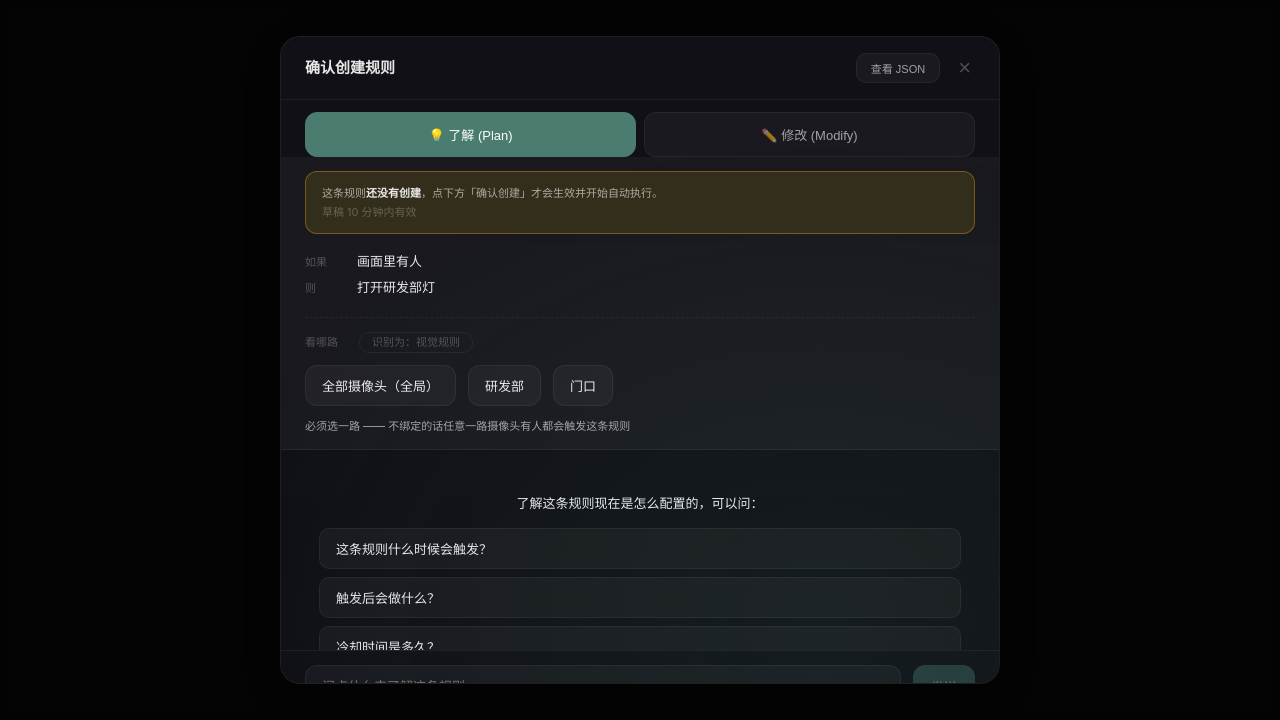
Scenario: ReviseChatModal pending 模式 › 非 404 失败（如设备已不存在）留在弹窗内展示，用户还能改
Click the button with class "camera-chip" showing "研发部": (504, 385) [468,365,541,406]
(page scrolled)
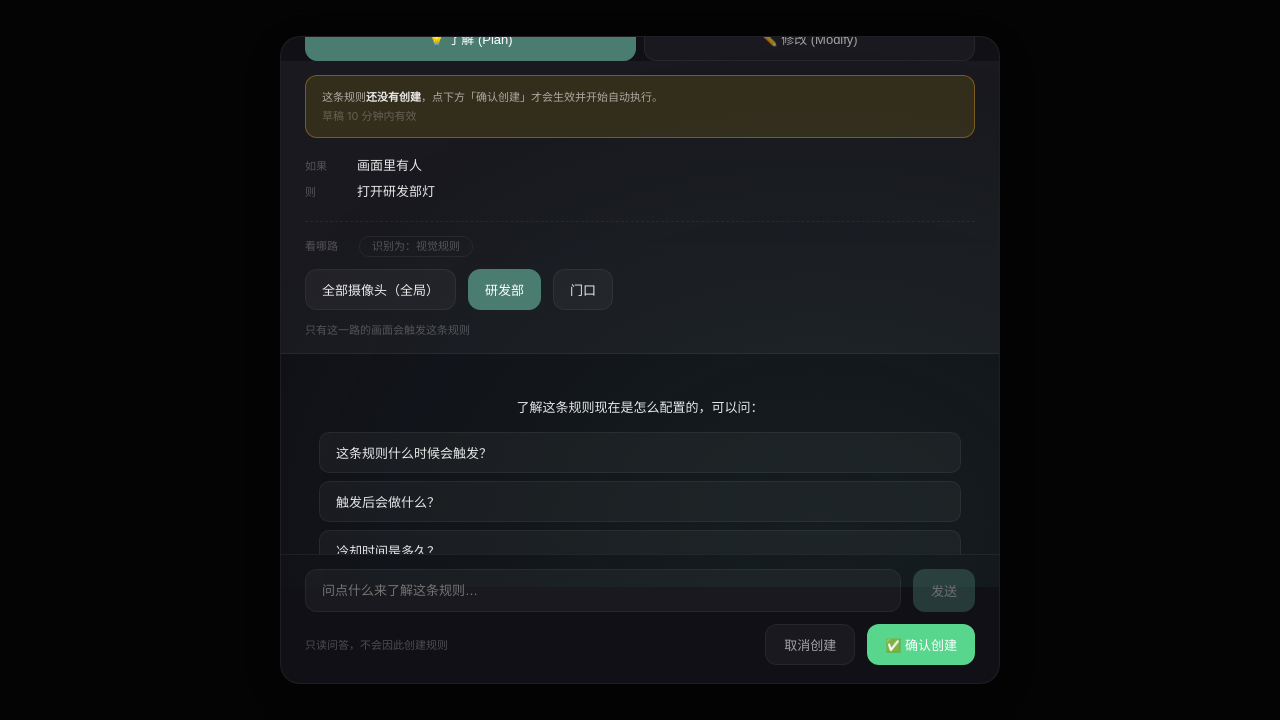
Click the button "✅ 确认创建": (921, 645) [867,624,975,666]
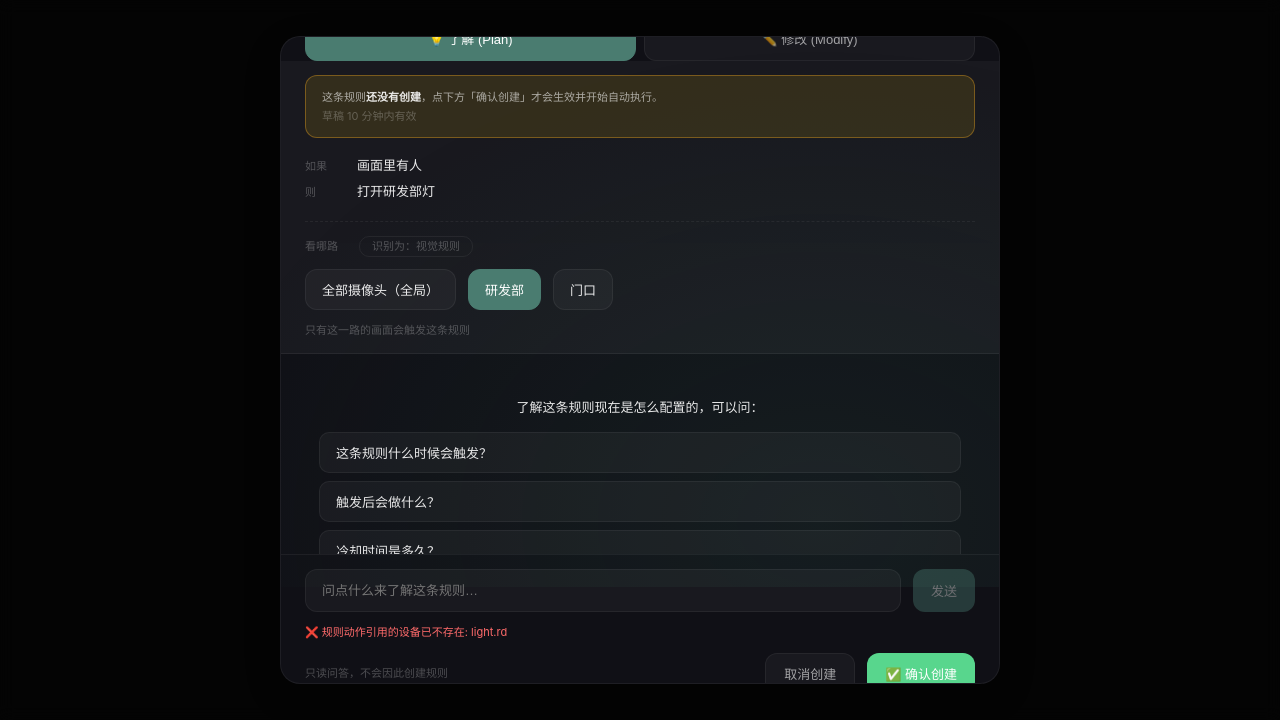
Result: the text with class "action-error" shows "light.rd" at [305,626,507,640]
